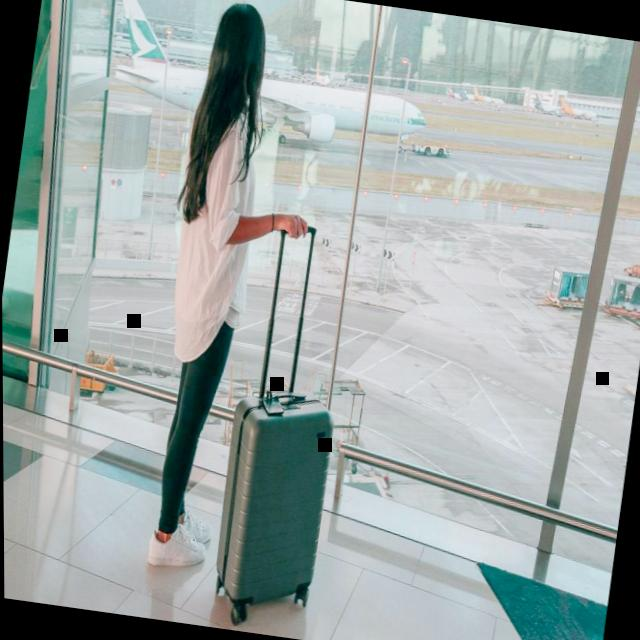luggage: (204, 380, 341, 618)
